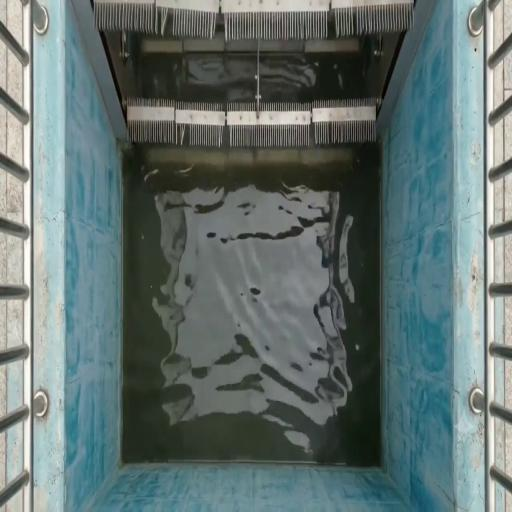rake: (90, 1, 418, 148)
rake_broken: (144, 0, 234, 49), (312, 3, 371, 51), (298, 119, 344, 160), (164, 118, 206, 158), (214, 119, 245, 159)
